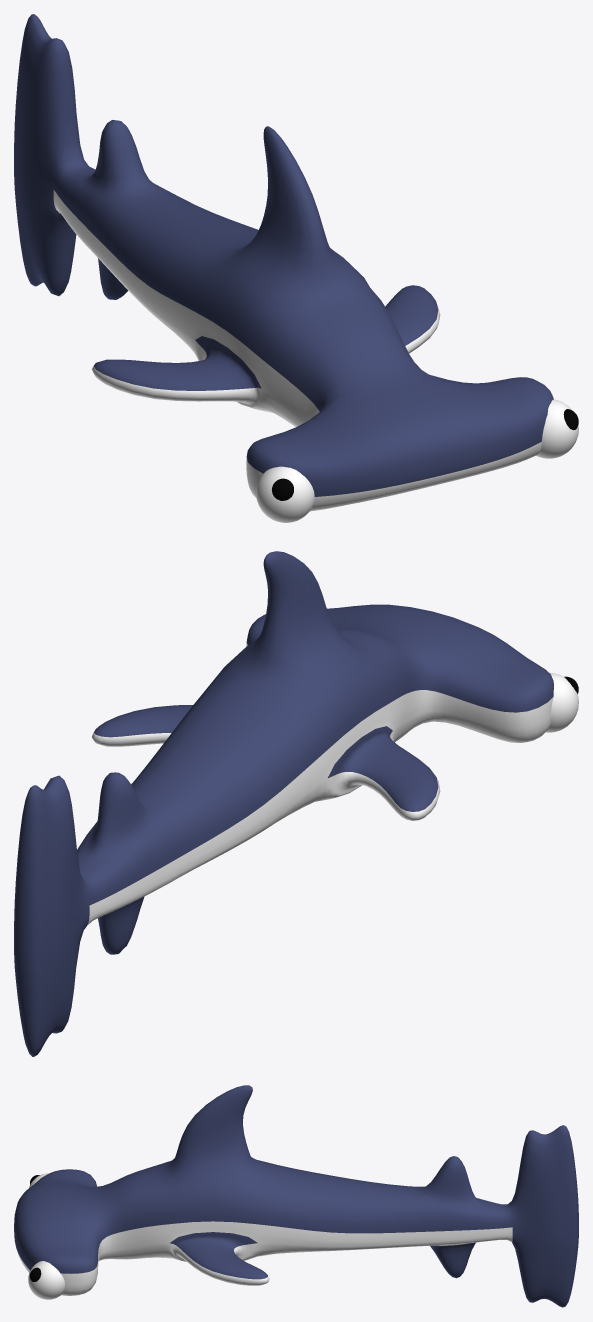
File: shark_3.fbx
3 views of the same model, one above another, from view 1: azimuth 30°, elevation 25°; view 2: azimuth 150°, elevation 25°; view 3: azimuth 270°, elevation 25° (orthographic). The views are drawn at different scales.
Visible parts, largest first — view 1: Cube; view 2: Cube; view 3: Cube.
Part boxes in pixels (left/top/right/bottom): Cube: left=14, top=14, right=578, bottom=522; Cube: left=14, top=551, right=578, bottom=1056; Cube: left=14, top=1085, right=578, bottom=1307.
Bounding box in the file's own units: 4.9 × 2.12 × 2.22.
